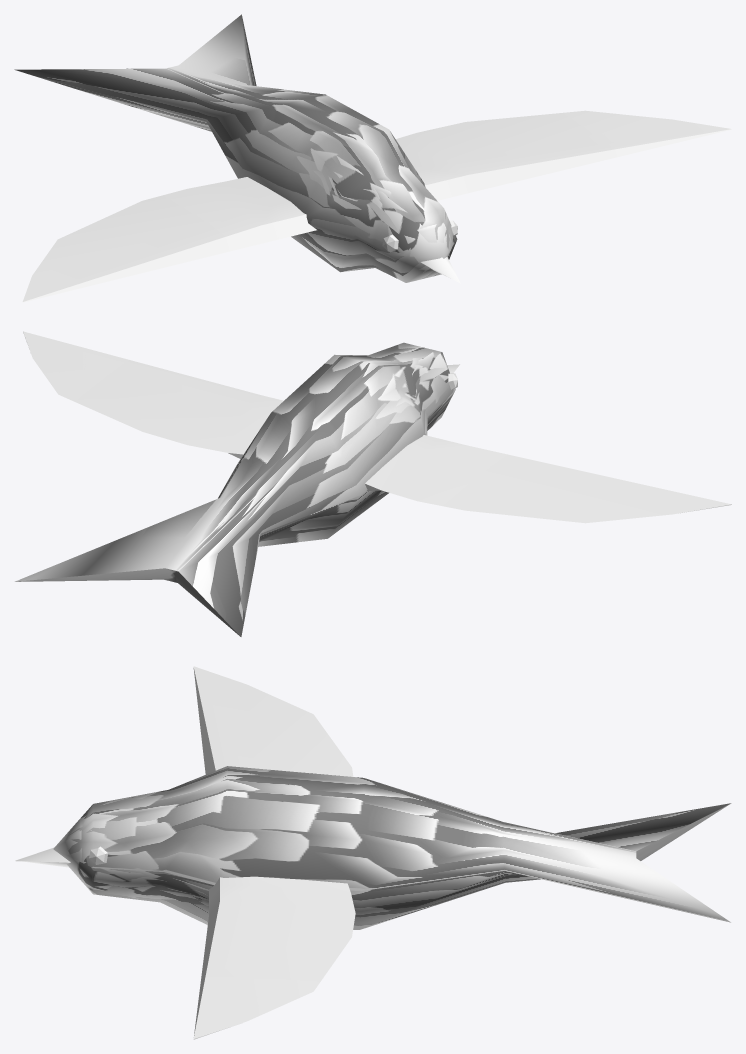
The model's file is BirdAvatar.fbx.
3 views of the same model, one above another, from view 1: azimuth 30°, elevation 25°; view 2: azimuth 150°, elevation 25°; view 3: azimuth 270°, elevation 25° (orthographic). The views are drawn at different scales.
Visible parts, largest first — view 1: BirdHead_Far, wingRight, wingLeft; view 2: BirdHead_Far, wingRight, wingLeft, BirdHead_FarInside; view 3: BirdHead_Far, wingLeft, wingRight, BirdHead_FarInside.
Boxes of the visible parts, left/top/right/bottom form: BirdHead_Far: left=14, top=14, right=460, bottom=283; wingRight: left=22, top=177, right=316, bottom=302; wingLeft: left=395, top=110, right=731, bottom=200; BirdHead_Far: left=14, top=342, right=459, bottom=636; wingRight: left=365, top=435, right=731, bottom=523; wingLeft: left=23, top=331, right=283, bottom=458; BirdHead_FarInside: left=15, top=568, right=240, bottom=636; BirdHead_Far: left=15, top=766, right=730, bottom=929; wingLeft: left=193, top=876, right=355, bottom=1039; wingRight: left=193, top=666, right=353, bottom=776; BirdHead_FarInside: left=636, top=804, right=729, bottom=860.
Size of the model in its own units: 43.31 by 7.45 by 35.22.
